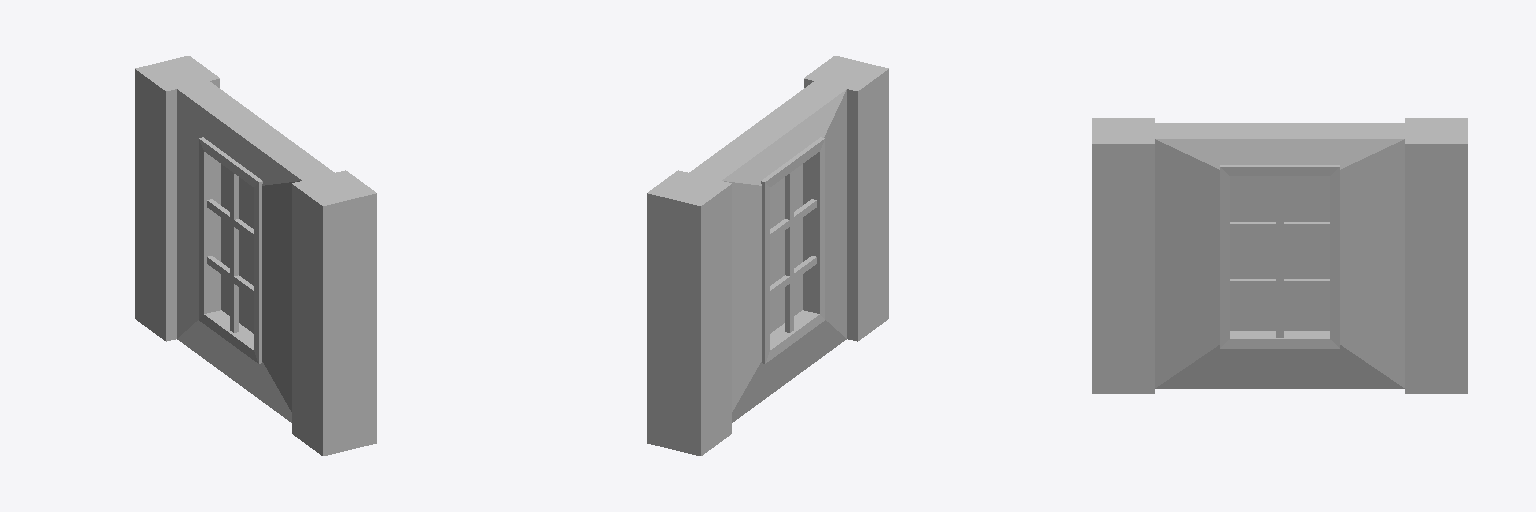
File: Wall New Window 2.obj
3 views of the same model, side by side, from view 1: azimuth 30°, elevation 25°; view 2: azimuth 150°, elevation 25°; view 3: azimuth 270°, elevation 25° (orthographic).
Parts seen in each view (by area): view 1: Wood_Window_Square_01, Cube_Cube.001; view 2: Wood_Window_Square_01, Cube_Cube.001; view 3: Wood_Window_Square_01, Cube_Cube.001.
Boxes of the visible parts, box(x1,y1,x2,y2) form: Wood_Window_Square_01: box(135, 56, 376, 455); Cube_Cube.001: box(199, 137, 262, 363); Wood_Window_Square_01: box(647, 56, 888, 455); Cube_Cube.001: box(761, 137, 824, 363); Wood_Window_Square_01: box(1092, 118, 1467, 393); Cube_Cube.001: box(1220, 165, 1339, 348).
Bounding box in the file's own units: 0.5032 × 2.2 × 3.